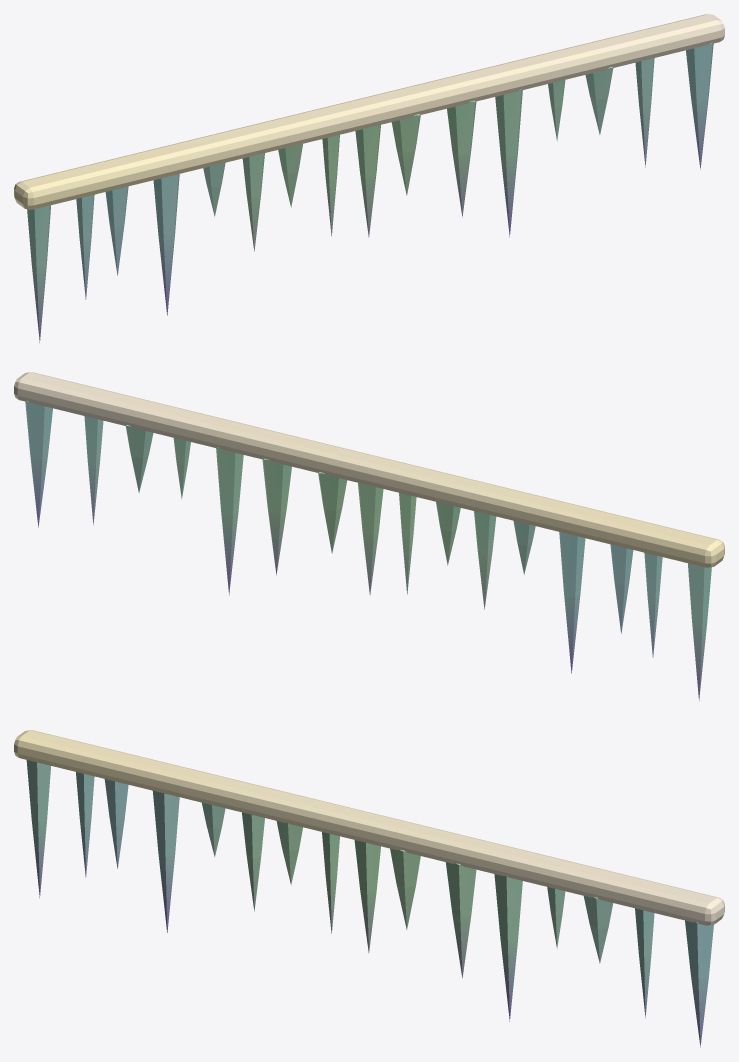
File: Icicles_2m.glb
3 views of the same model, one above another, from view 1: azimuth 30°, elevation 25°; view 2: azimuth 150°, elevation 25°; view 3: azimuth 330°, elevation 25° (orthographic).
Visible parts, largest first — view 1: Icicles_2m; view 2: Icicles_2m; view 3: Icicles_2m.
Part boxes in pixels (left/top/right/bottom): Icicles_2m: left=14, top=14, right=724, bottom=342; Icicles_2m: left=14, top=372, right=724, bottom=700; Icicles_2m: left=14, top=730, right=724, bottom=1047.
Size of the model in its own units: 2 by 0.466 by 0.0827.
